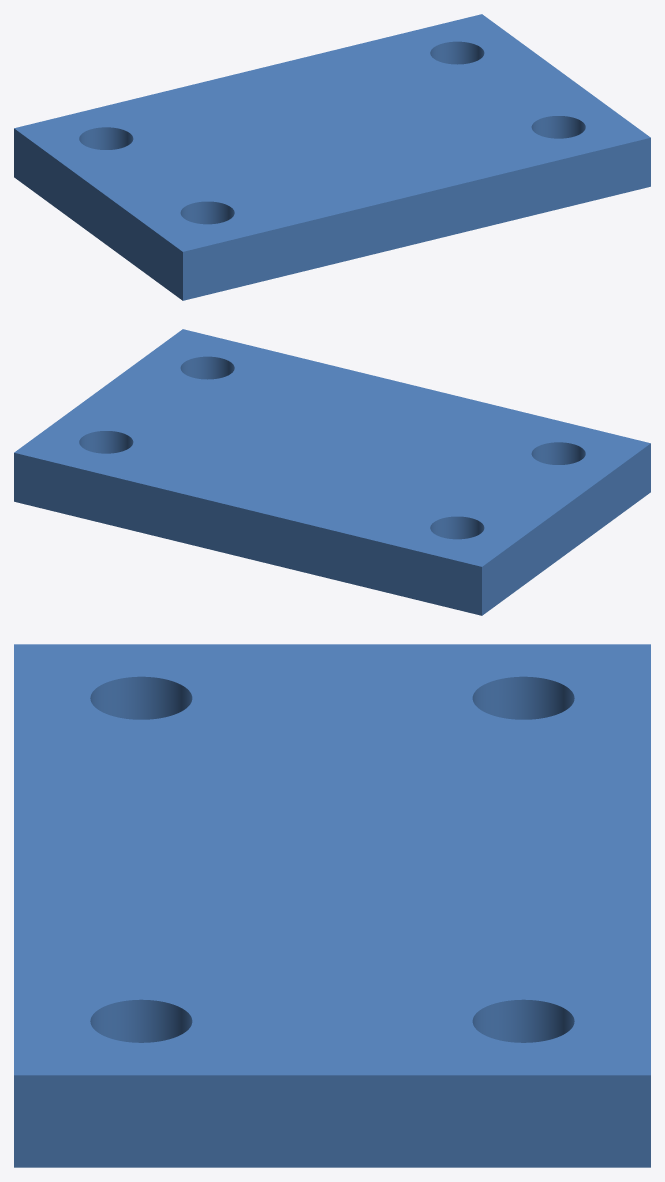
The model's file is mounting-plate-8.glb.
The picture shows the model from 3 angles, top to bottom: view 1: azimuth 30°, elevation 25°; view 2: azimuth 150°, elevation 25°; view 3: azimuth 270°, elevation 25°; orthographic projection. The views are drawn at different scales.
Parts seen in each view (by area): view 1: Agent-CAD part; view 2: Agent-CAD part; view 3: Agent-CAD part.
Boxes of the visible parts, left/top/right/bottom form: Agent-CAD part: left=14, top=14, right=650, bottom=300; Agent-CAD part: left=14, top=329, right=650, bottom=615; Agent-CAD part: left=14, top=644, right=650, bottom=1167.
Size of the model in its own units: 0.08 by 0.008 by 0.05.
